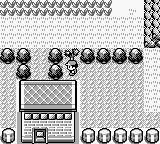captura: (1, 0, 112, 16)
main: (65, 61, 78, 75)
mo: (64, 48, 80, 63)
no-caminable: (19, 80, 76, 143), (80, 128, 159, 143), (80, 48, 143, 64), (0, 48, 31, 79), (145, 0, 159, 47), (48, 48, 64, 80), (0, 128, 16, 143)
puerta: (34, 129, 45, 143)
